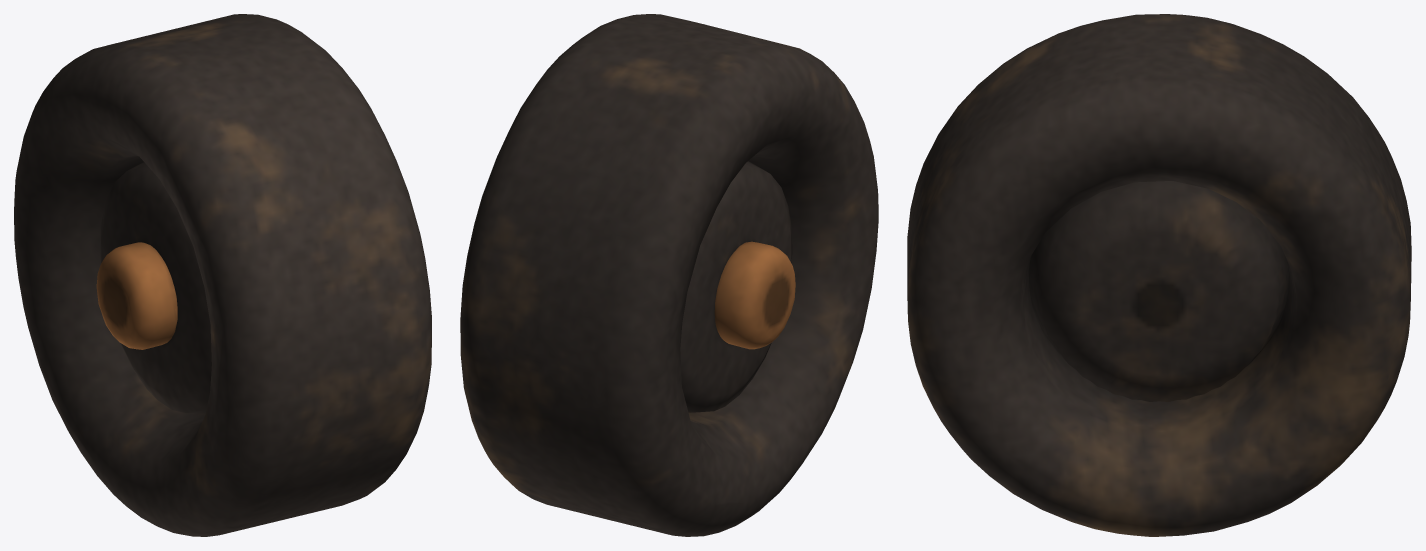
The picture shows the model from 3 angles, left to right: view 1: azimuth 30°, elevation 25°; view 2: azimuth 150°, elevation 25°; view 3: azimuth 270°, elevation 25°; orthographic projection.
Visible parts, largest first — view 1: wheel_F; view 2: wheel_F; view 3: wheel_F.
Part boxes in pixels (x1,y1,x2,y2): wheel_F: (14,14,431,536); wheel_F: (460,14,878,536); wheel_F: (907,14,1411,536).
Size of the model in its own units: 0.1242 by 0.2595 by 0.2594.
1 material, 1 textured.
